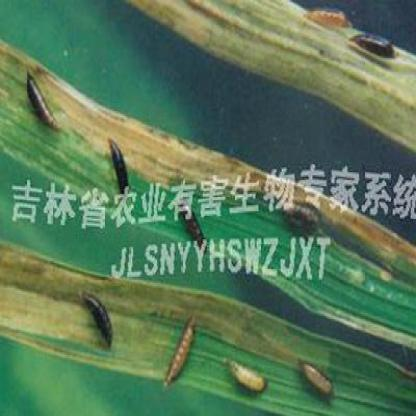whorl-maggot: (23, 68, 68, 140), (163, 312, 202, 394), (76, 284, 120, 354), (218, 346, 270, 395), (292, 352, 340, 398), (347, 26, 402, 66), (297, 4, 352, 38), (108, 127, 130, 188)
